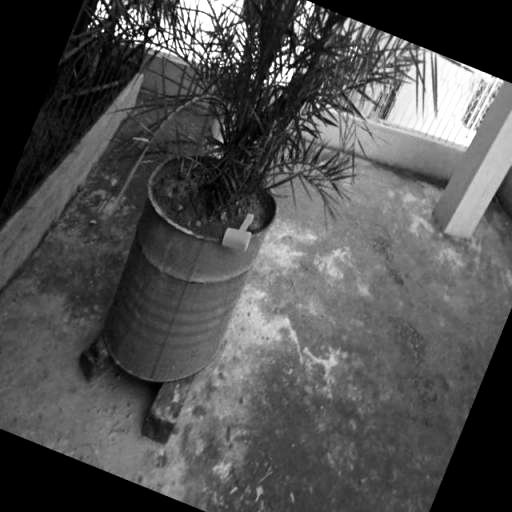mallet: (218, 206, 260, 256)
